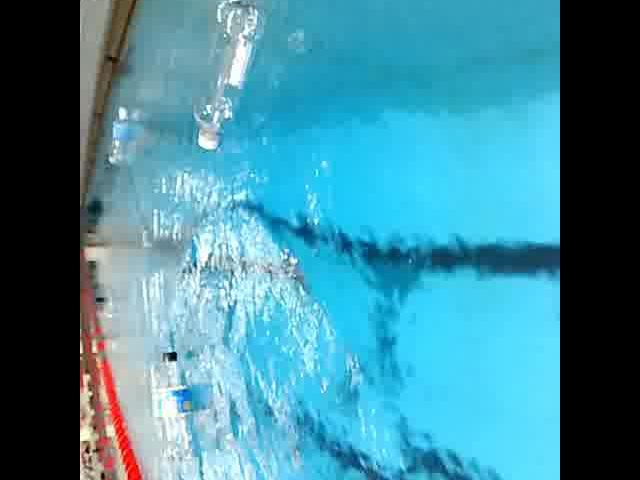Bottle: (187, 0, 269, 156), (148, 344, 202, 466), (106, 100, 134, 170)
